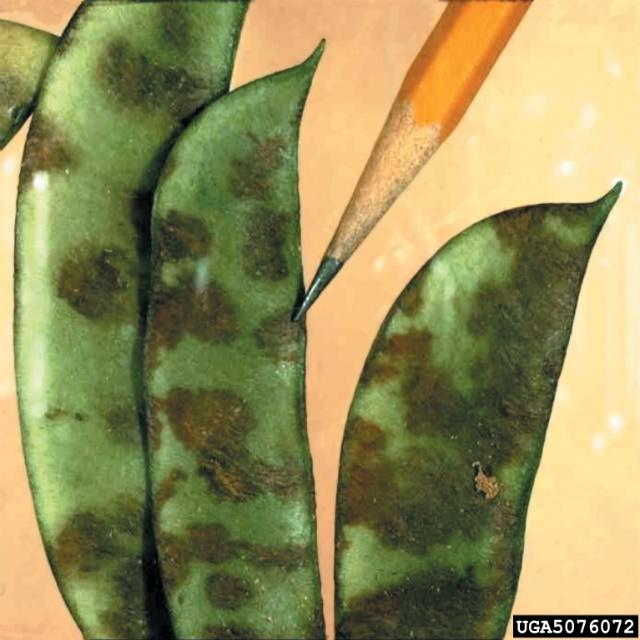leaf_spot: (13, 17, 303, 636), (341, 197, 640, 611)
